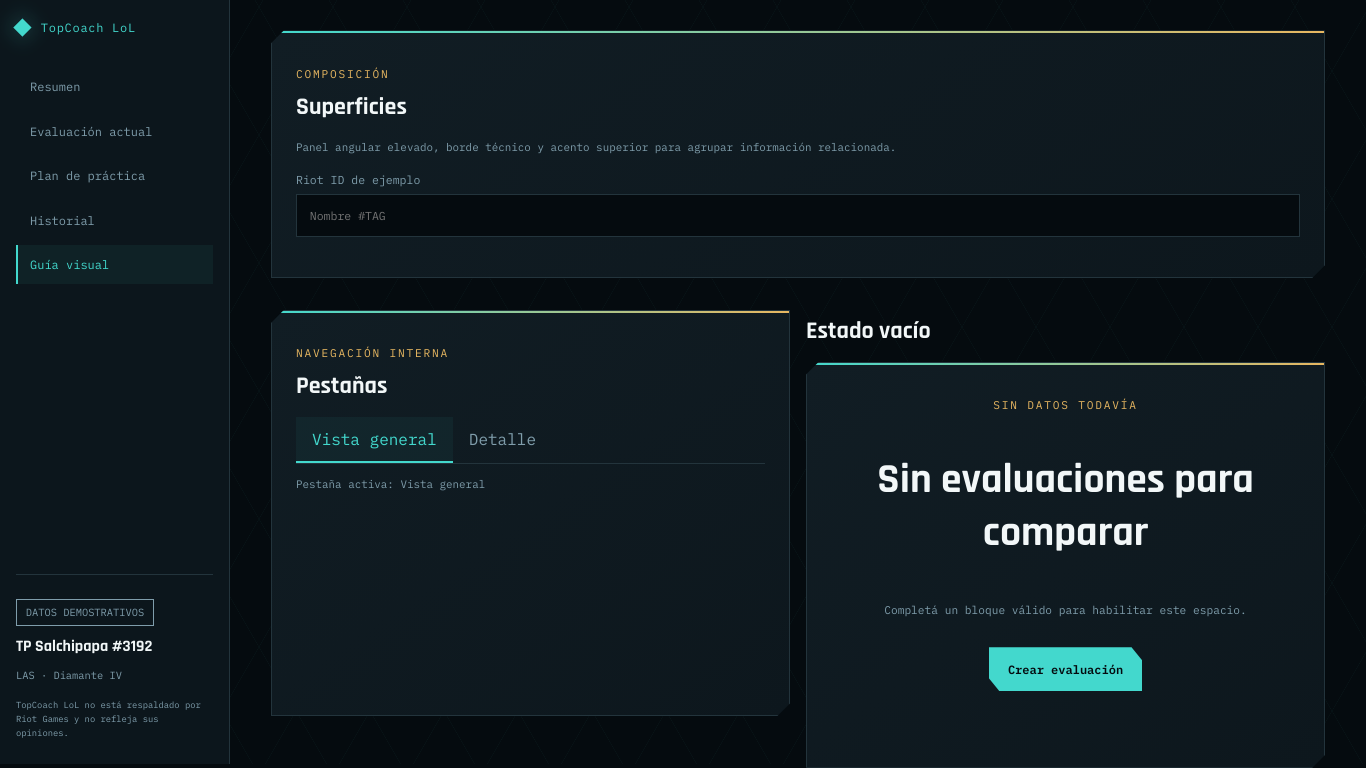
Test: progress journey › publishes the complete visual contract with live components
(page scrolled)
Check: the heading "Superficies" is shown, box [296,92,407,122]
Check: the heading "Pestañas" is shown, box [296,372,388,402]
Click the tab "Detalle".
click(502, 440)  # box [453,418,552,464]
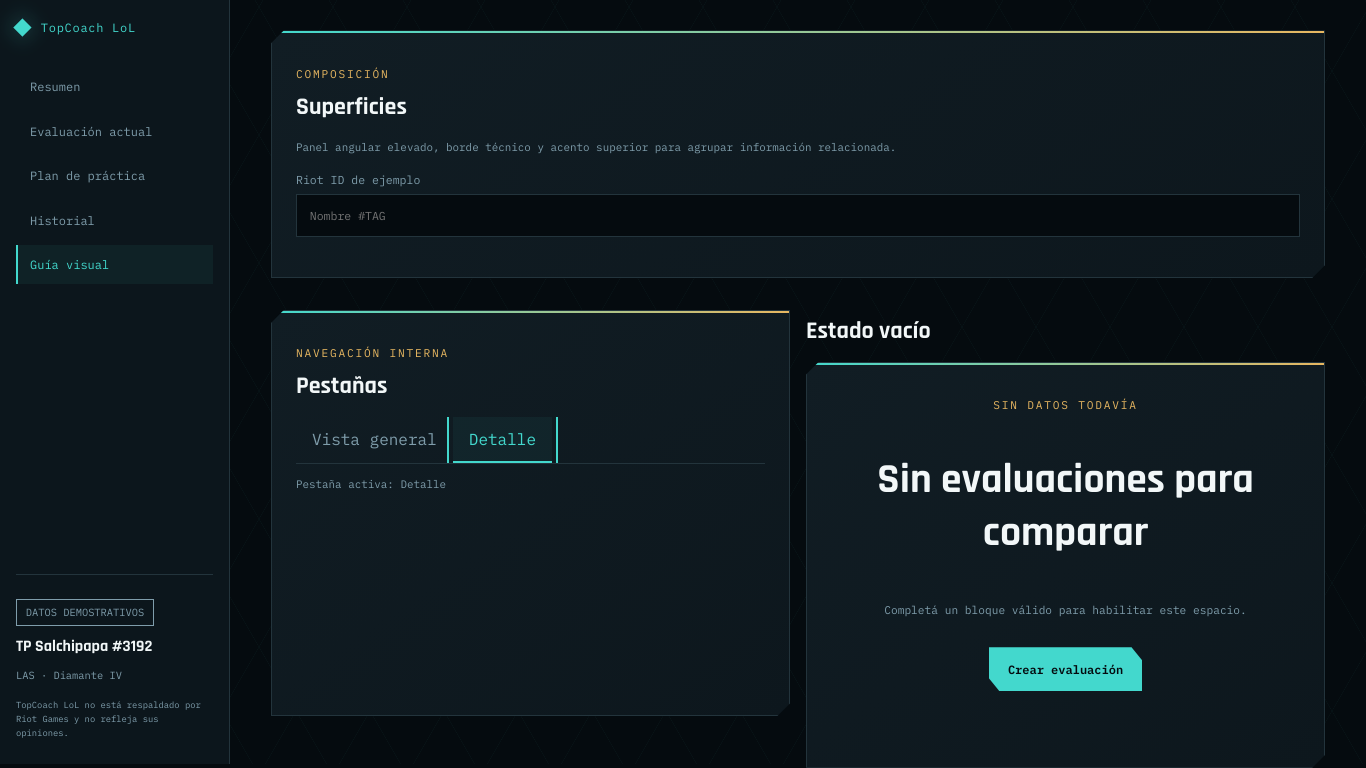
Check: the text "Pestaña activa: Detalle" is shown, box [296,477,446,491]
